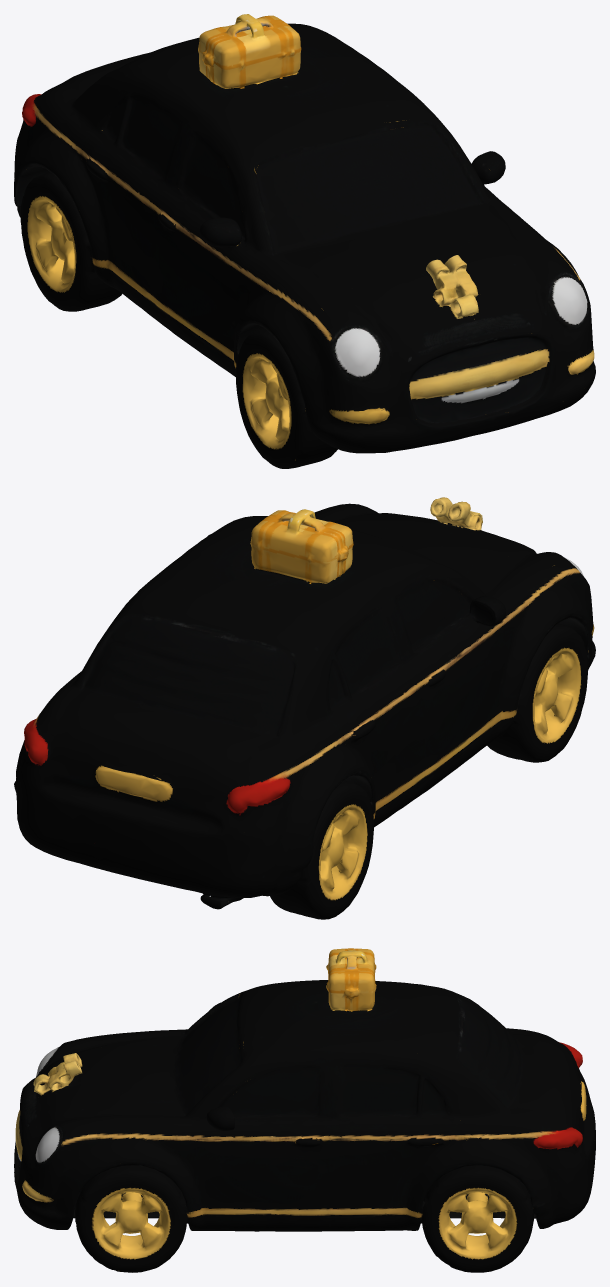
Rendered from cochazo.glb.
3 views of the same model, one above another, from view 1: azimuth 30°, elevation 25°; view 2: azimuth 150°, elevation 25°; view 3: azimuth 270°, elevation 25° (orthographic). The views are drawn at different scales.
Size of the model in its own units: 0.4792 by 0.4863 by 0.9997.
1 material, 1 textured.
